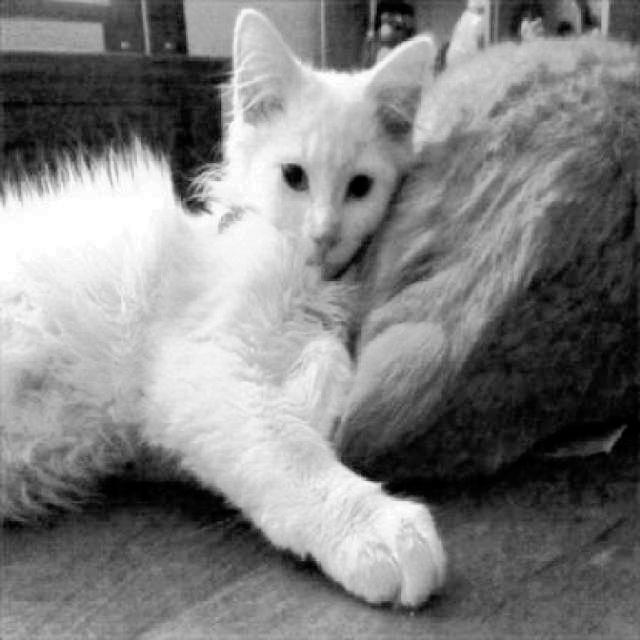Cat: (0, 0, 455, 617)
